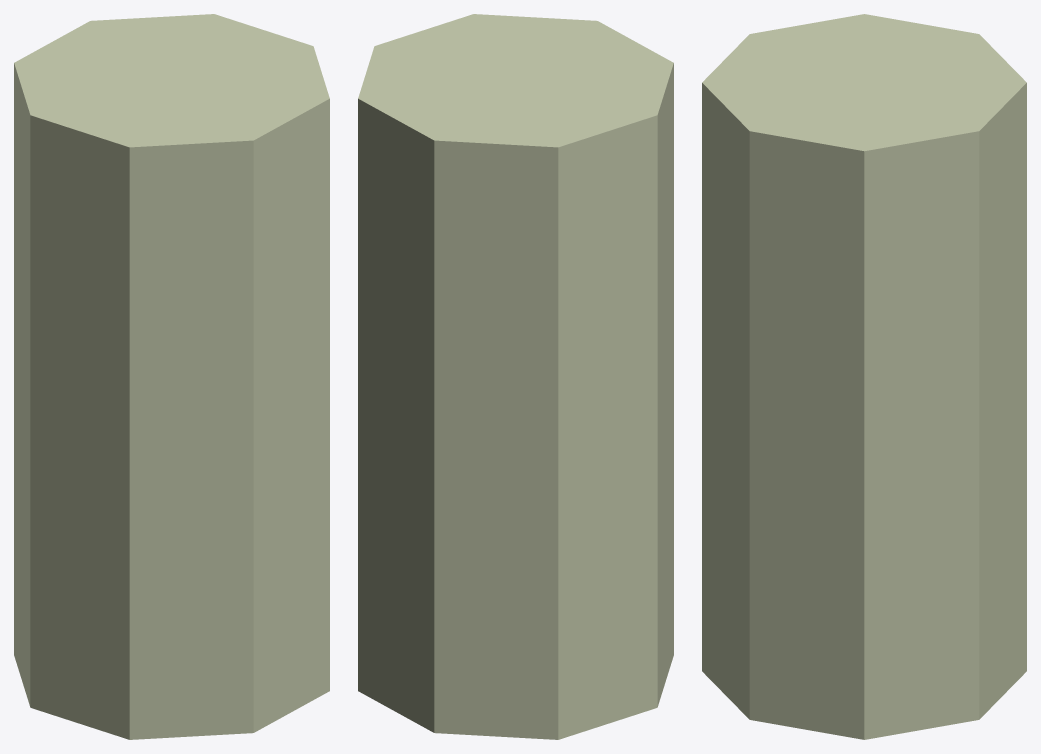
The model's file is rotanev_lv_engine_s1p5_1_collider.obj.
The picture shows the model from 3 angles, left to right: view 1: azimuth 30°, elevation 25°; view 2: azimuth 150°, elevation 25°; view 3: azimuth 270°, elevation 25°; orthographic projection.
Visible parts, largest first — view 1: collider; view 2: collider; view 3: collider.
Part boxes in pixels (box(x1,y1,x2,y2)): collider: box(14, 14, 329, 739); collider: box(358, 14, 673, 739); collider: box(702, 14, 1026, 739).
Size of the model in its own units: 1.5 by 3 by 1.5.
